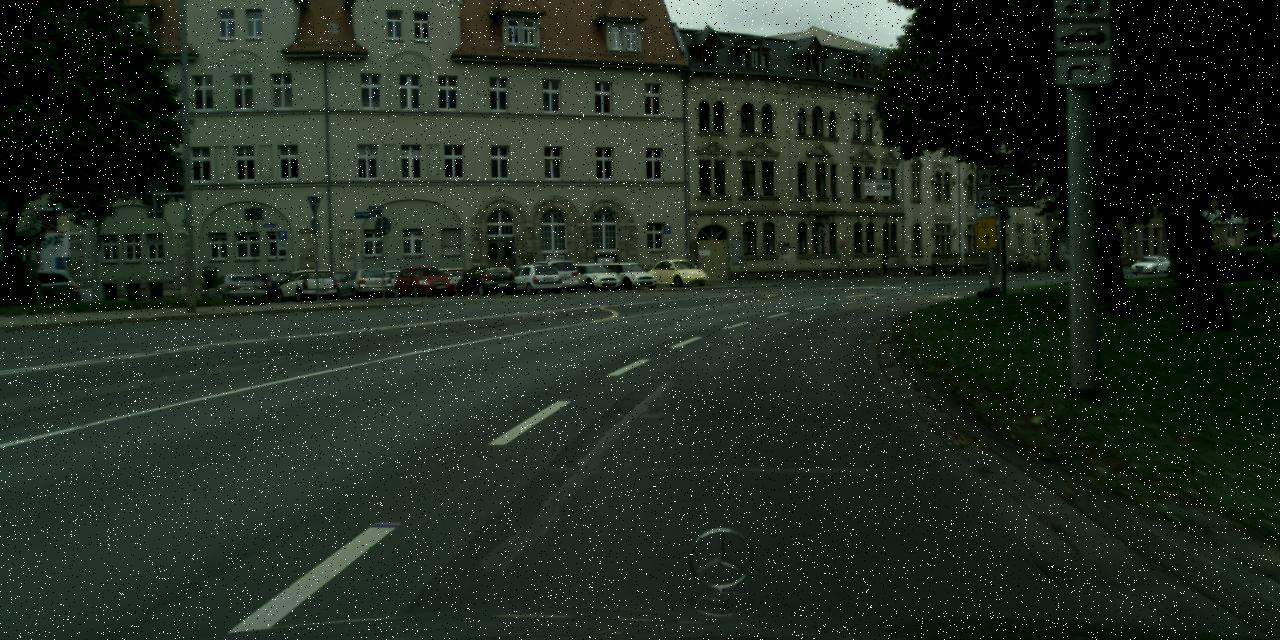ped: (880, 252, 889, 276)
